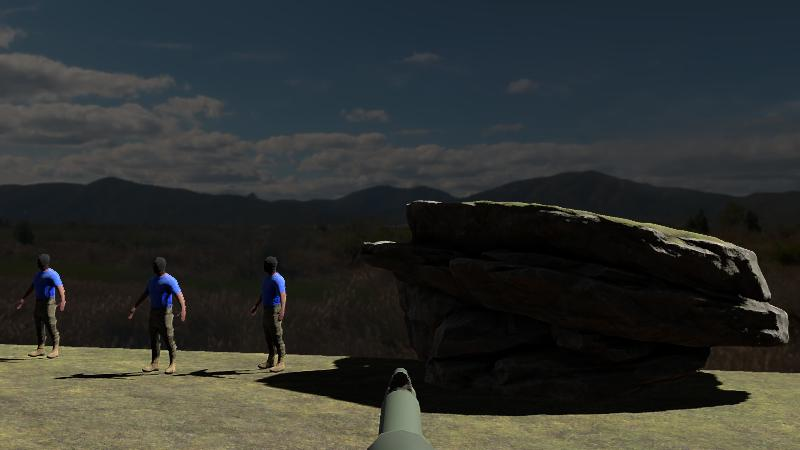Human: (129, 256, 186, 375), (18, 253, 65, 359), (250, 256, 286, 372)
